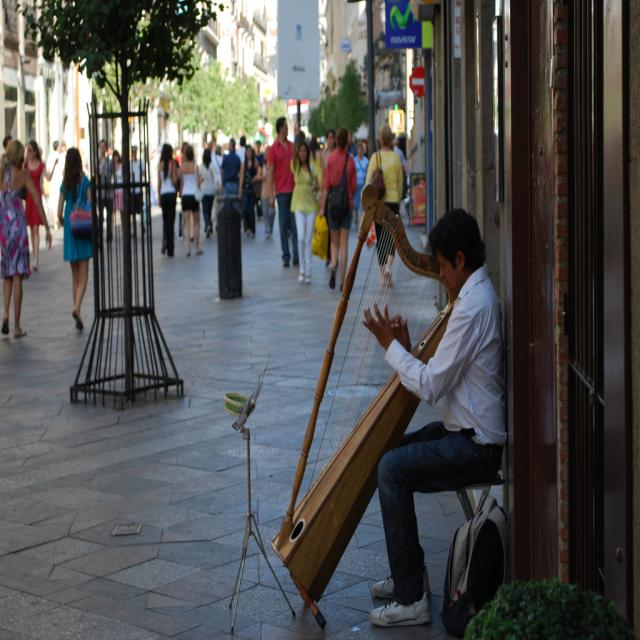harp: (273, 182, 460, 600)
